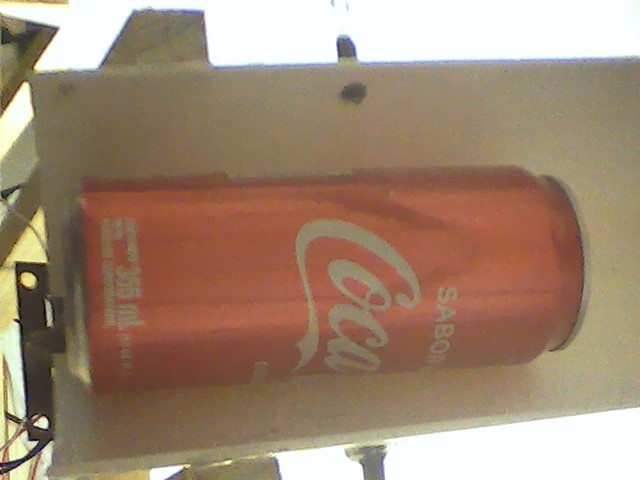lata: (56, 162, 597, 400)
